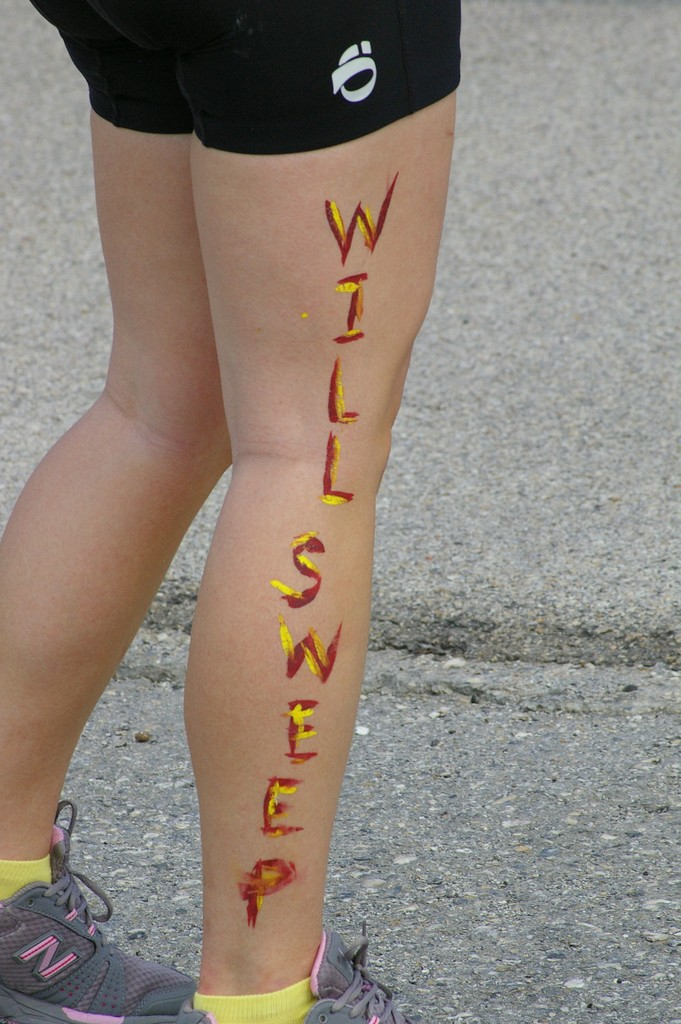Person: (0, 0, 461, 1023)
